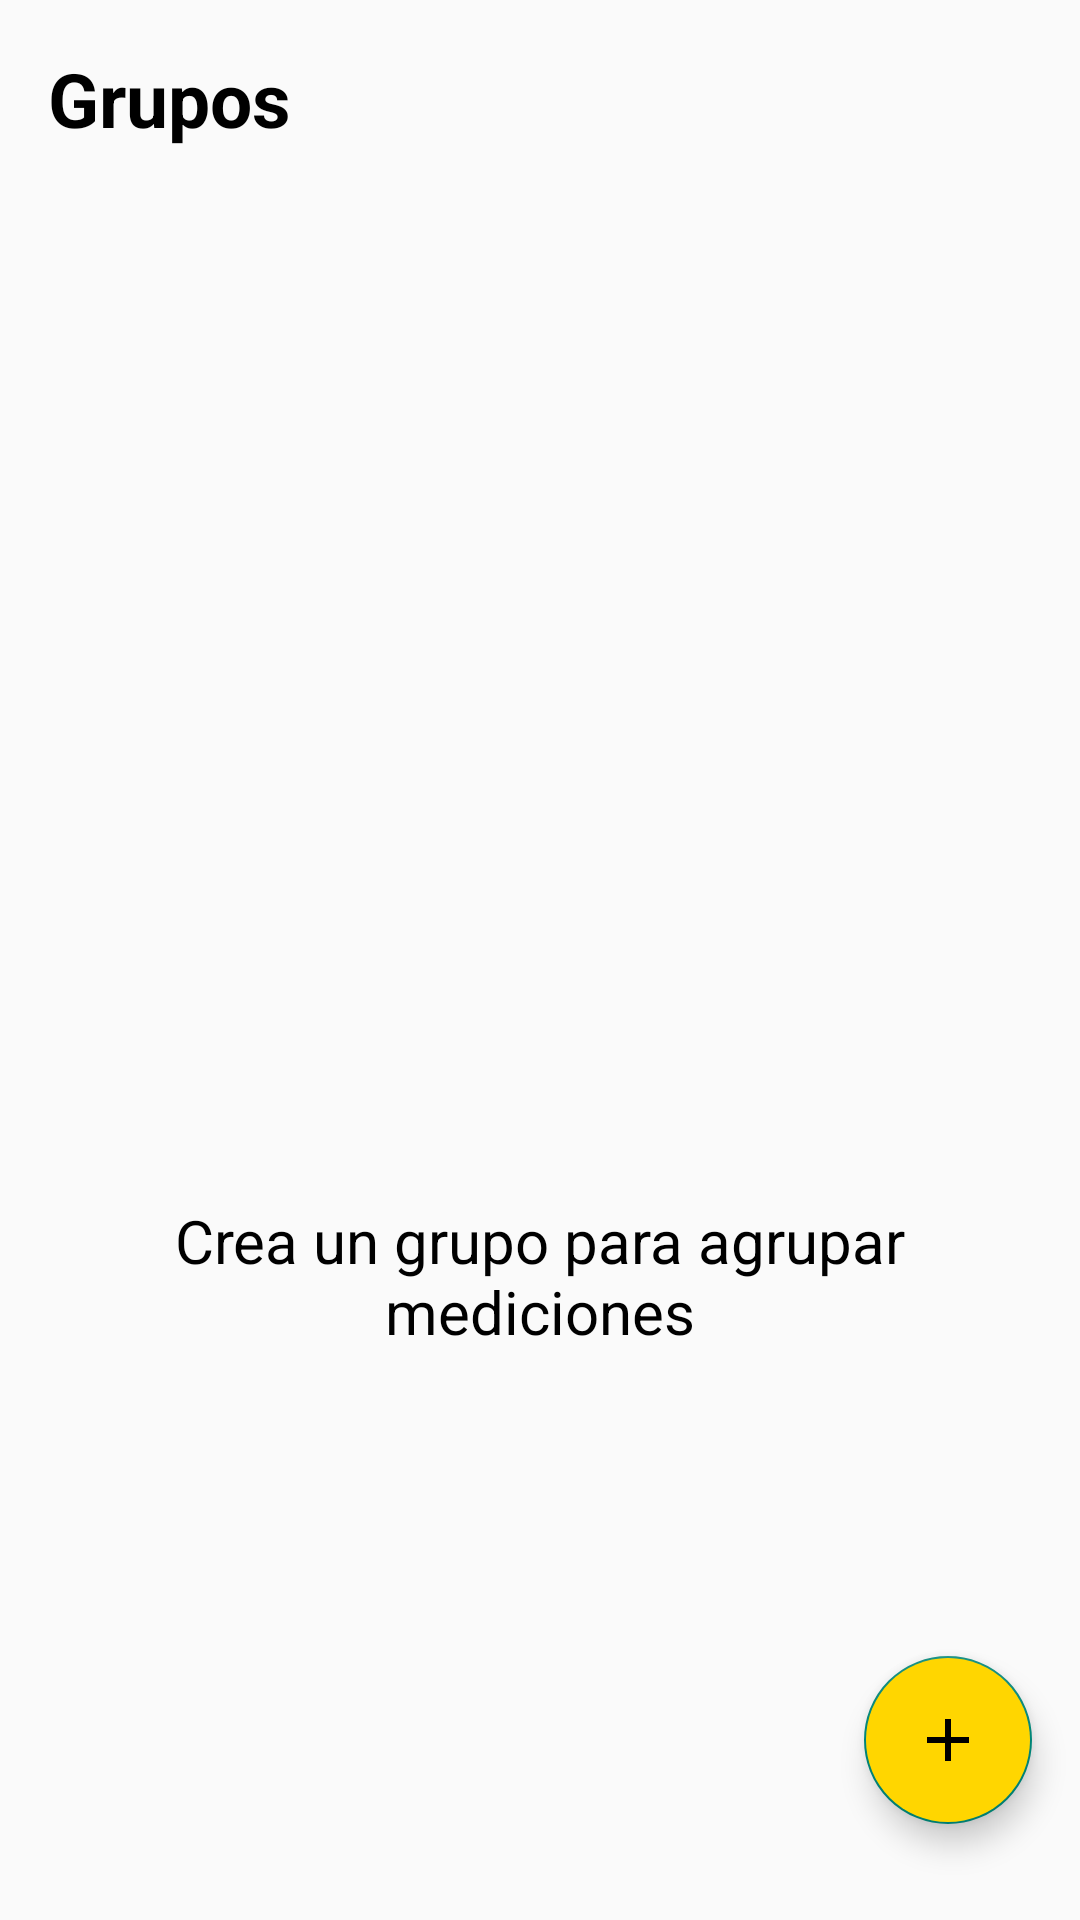

Screen size 1080x1920. Icon name, then its center in pixels as (x,y):
add: (948,1740)
